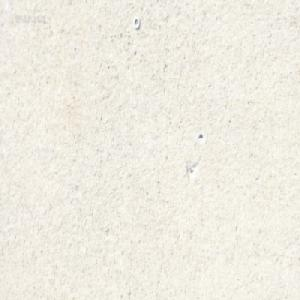Washer: (132, 16, 140, 31)
